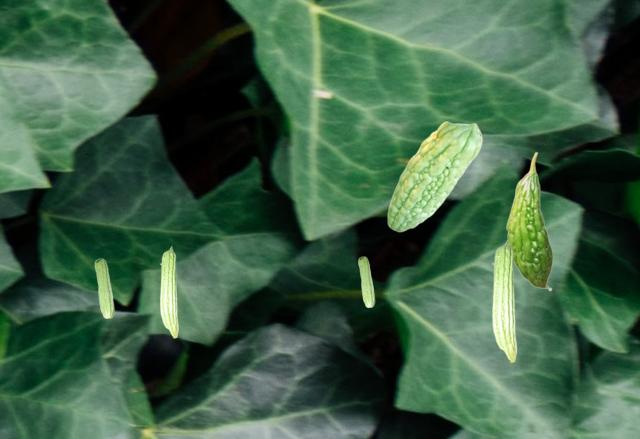ampalaya: (387, 120, 483, 232), (505, 151, 553, 291), (491, 239, 517, 363), (159, 245, 178, 338), (94, 258, 114, 319), (357, 256, 375, 308)
